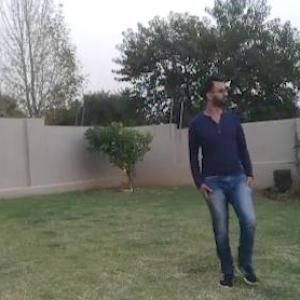follow: (188, 55, 260, 276)
